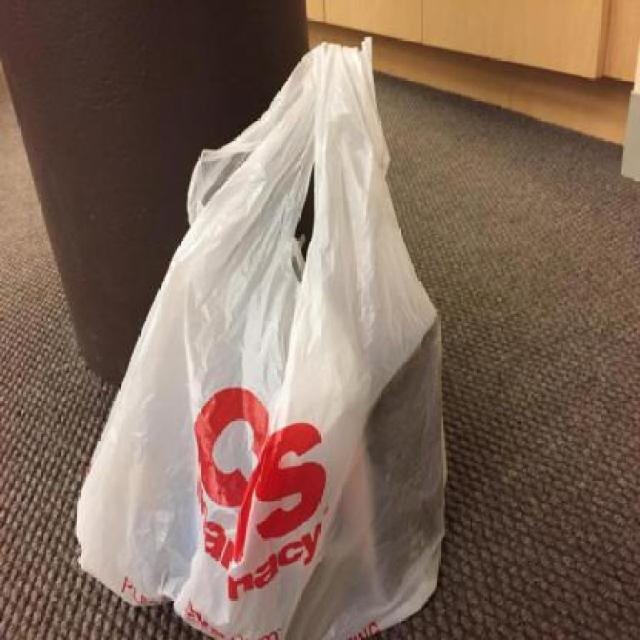plastic bag: (76, 11, 490, 640)
